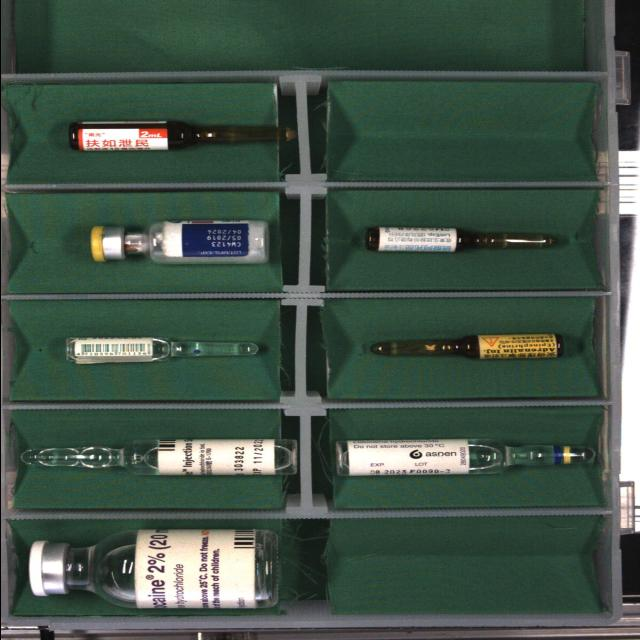Vials: (28, 530, 277, 609), (89, 221, 268, 264)
